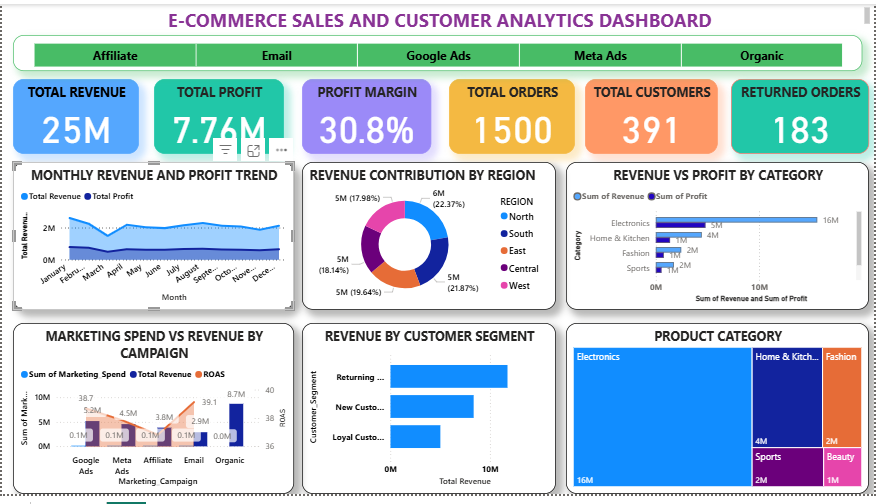

What the dashboard file says about the page in this screenshot:
{"tool":"powerbi","page":{"name":"Page 1","canvas":[1280,720],"ordinal":0},"visuals":[{"type":"card","title":"TOTAL REVENUE","fields":{"Values":["Ecommerce_BI_Customer_Analytics.Total Revenue"]},"box":[16.2,110.2,185.1,110.2],"z":0},{"type":"card","title":"TOTAL PROFIT","fields":{"Values":["Ecommerce_BI_Customer_Analytics.Total Profit"]},"box":[223.3,110.2,191,110.2],"z":1000},{"type":"card","title":"PROFIT MARGIN","fields":{"Values":["Ecommerce_BI_Customer_Analytics.Profit Margin %"]},"box":[440.8,110.2,189.6,110.2],"z":2000},{"type":"card","title":"TOTAL ORDERS","fields":{"Values":["Ecommerce_BI_Customer_Analytics.Total Order"]},"box":[656.8,110.2,185.1,110.2],"z":3000},{"type":"card","title":"TOTAL CUSTOMERS","fields":{"Values":["Ecommerce_BI_Customer_Analytics.Total Customers"]},"box":[856.7,110.2,195.4,110.2],"z":4000},{"type":"card","title":"RETURNED ORDERS","fields":{"Values":["Ecommerce_BI_Customer_Analytics.Returned Orders"]},"box":[1071.2,110.2,202.8,110.2],"z":5000},{"type":"lineChart","title":"MONTHLY REVENUE AND PROFIT TREND","fields":{"Y":["Ecommerce_BI_Customer_Analytics.Total Revenue","Ecommerce_BI_Customer_Analytics.Total Profit"],"Category":["Ecommerce_BI_Customer_Analytics.Order_Date.Variation.Date Hierarchy.Month"]},"box":[16.2,232.2,412.9,217.5],"z":6000},{"type":"clusteredBarChart","title":"REVENUE VS PROFIT BY CATEGORY","fields":{"Category":["Ecommerce_BI_Customer_Analytics.Category"],"Y":["Sum(Ecommerce_BI_Customer_Analytics.Revenue)","Sum(Ecommerce_BI_Customer_Analytics.Profit)"]},"box":[828.7,232.2,445.2,217.5],"z":7000},{"type":"donutChart","title":"REVENUE CONTRIBUTION BY REGION","fields":{"Category":["Ecommerce_BI_Customer_Analytics.Region"],"Y":["Ecommerce_BI_Customer_Analytics.Total Revenue"]},"box":[440.8,232.2,373.2,217.5],"z":8000},{"type":"barChart","title":"REVENUE BY CUSTOMER SEGMENT","fields":{"Category":["Ecommerce_BI_Customer_Analytics.Customer_Segment"],"Y":["Ecommerce_BI_Customer_Analytics.Total Revenue"]},"box":[440.8,468.7,373.2,251.3],"z":9000},{"type":"lineClusteredColumnComboChart","title":"MARKETING SPEND VS REVENUE BY CAMPAIGN","fields":{"Category":["Ecommerce_BI_Customer_Analytics.Marketing_Campaign"],"Y":["Sum(Ecommerce_BI_Customer_Analytics.Marketing_Spend)","Ecommerce_BI_Customer_Analytics.Total Revenue"],"Y2":["Ecommerce_BI_Customer_Analytics.ROAS"]},"box":[16.2,468.7,412.9,251.3],"z":10000},{"type":"treemap","title":" PRODUCT CATEGORY","fields":{"Group":["Ecommerce_BI_Customer_Analytics.Category"],"Values":["Ecommerce_BI_Customer_Analytics.Total Revenue"]},"box":[828.7,468.7,445.2,251.3],"z":11000},{"type":"textbox","box":[16.2,0,1263.7,45.6],"z":12000},{"type":"slicer","fields":{"Values":["Ecommerce_BI_Customer_Analytics.Marketing_Campaign"]},"box":[16.7,45.5,1248.5,53],"z":13000}]}

Visuals, with their boxes in screenshot pixels (x1, y1, x2, y2), scaled from the page's 1280x720 canvas onto the 876x504 screenshot:
"TOTAL REVENUE" card: region(11, 77, 138, 154)
"TOTAL PROFIT" card: region(153, 77, 284, 154)
"PROFIT MARGIN" card: region(302, 77, 431, 154)
"TOTAL ORDERS" card: region(449, 77, 576, 154)
"TOTAL CUSTOMERS" card: region(586, 77, 720, 154)
"RETURNED ORDERS" card: region(733, 77, 872, 154)
"MONTHLY REVENUE AND PROFIT TREND" lineChart: region(11, 163, 294, 315)
"REVENUE VS PROFIT BY CATEGORY" clusteredBarChart: region(567, 163, 872, 315)
"REVENUE CONTRIBUTION BY REGION" donutChart: region(302, 163, 557, 315)
"REVENUE BY CUSTOMER SEGMENT" barChart: region(302, 328, 557, 503)
"MARKETING SPEND VS REVENUE BY CAMPAIGN" lineClusteredColumnComboChart: region(11, 328, 294, 503)
" PRODUCT CATEGORY" treemap: region(567, 328, 872, 503)
textbox: region(11, 0, 875, 32)
slicer - Ecommerce_BI_Customer_Analytics.Marketing_Campaign: region(11, 32, 866, 69)
